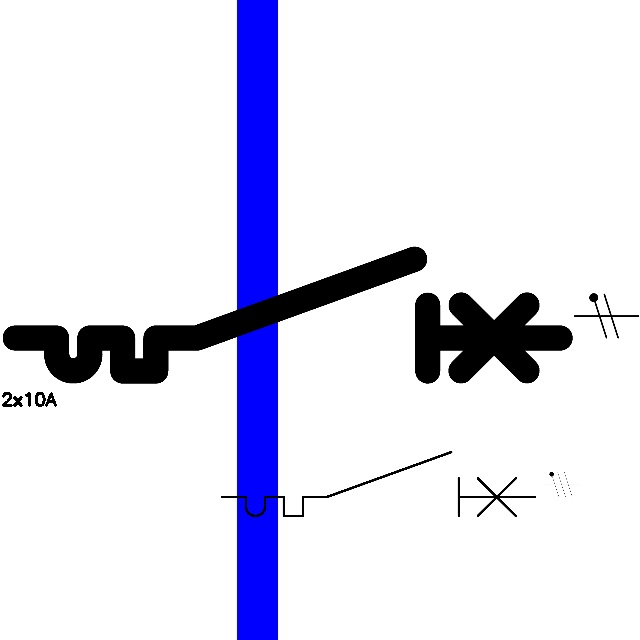interruptor_termomagnetico: (1, 245, 574, 385), (214, 444, 543, 524)
